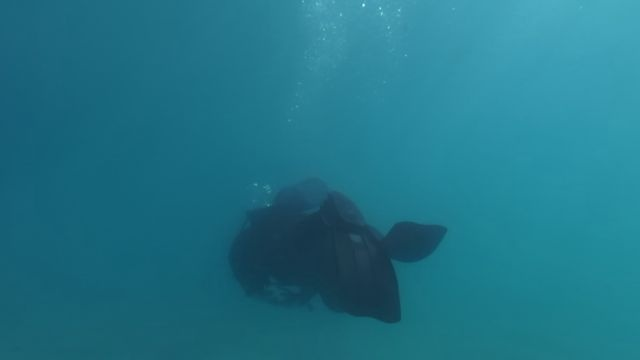Diver: (205, 160, 455, 330)
